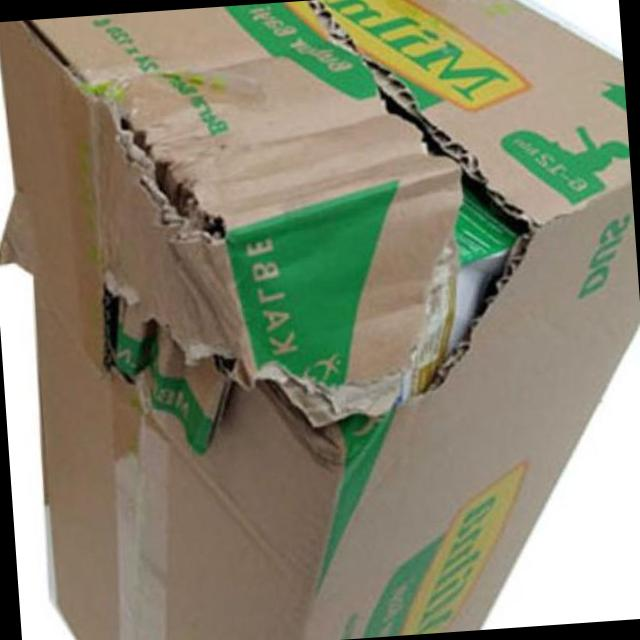box: (0, 0, 640, 640)
opened: (122, 66, 540, 441)
